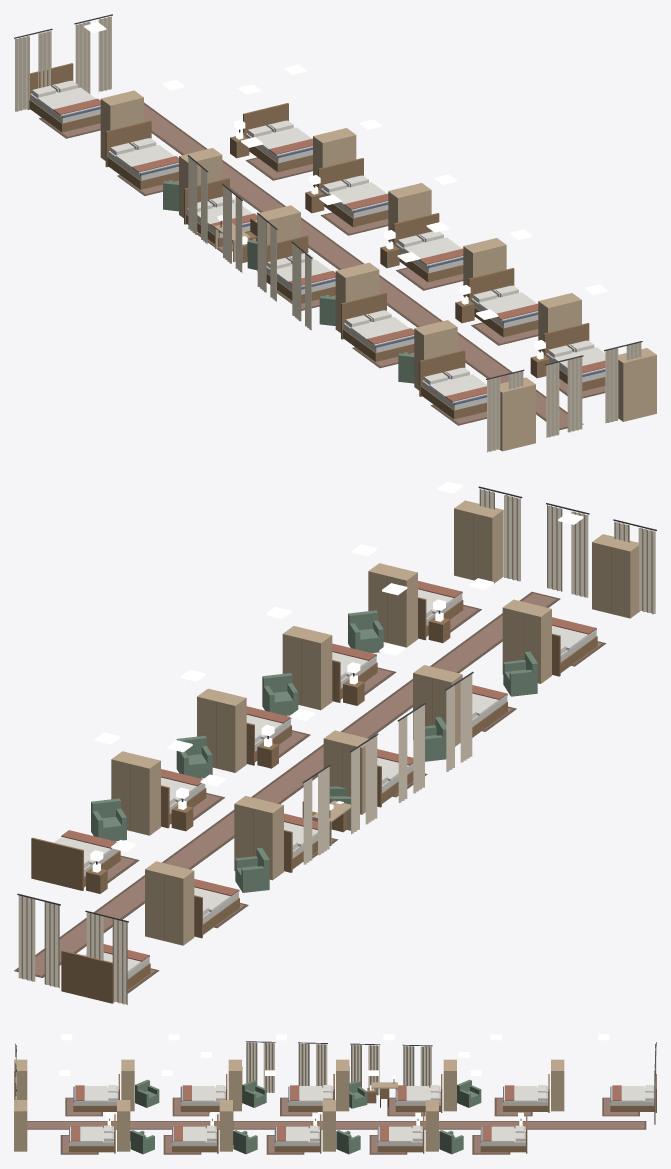
File: fine-s1.glb
The picture shows the model from 3 angles, top to bottom: view 1: azimuth 30°, elevation 25°; view 2: azimuth 150°, elevation 25°; view 3: azimuth 270°, elevation 25°; orthographic projection. The views are drawn at different scales.
Parts seen in each view (by area): view 1: soft-s1, dresser.004, dresser.010, bed-frame.006, bed-frame.009, bed-frame.010, bed-frame.005, bed-frame.000, bed-frame.003, bed-frame.001, bed-frame.002, dresser.008 (+11 smaller); view 2: soft-s1, dresser.005, dresser.004, dresser.010, dresser.002, dresser.001, dresser.000, dresser.003, dresser.006, dresser.009, bed-frame.005, bed-frame.000 (+15 smaller); view 3: soft-s1, dresser.002, dresser.005, dresser.006, dresser.007, dresser.000, dresser.001, dresser.003, dresser.004, dresser.008, bed-frame.000, bed-frame.001 (+20 smaller).
Boxes of the visible parts, x1,y1,x2,y2 form: soft-s1: [14, 14, 642, 452]; dresser.004: [618, 348, 656, 421]; dresser.010: [500, 377, 535, 451]; bed-frame.006: [105, 120, 178, 189]; bed-frame.009: [341, 292, 414, 361]; bed-frame.010: [419, 350, 486, 419]; bed-frame.005: [27, 63, 100, 132]; bed-frame.000: [243, 103, 312, 172]; bed-frame.003: [468, 268, 538, 337]; bed-frame.001: [318, 158, 388, 227]; bed-frame.002: [393, 213, 463, 282]; dresser.008: [335, 262, 379, 332]; soft-s1: [14, 486, 656, 1004]; dresser.005: [145, 861, 194, 945]; dresser.004: [454, 500, 503, 583]; dresser.010: [592, 534, 640, 618]; dresser.002: [282, 626, 332, 710]; dresser.001: [197, 688, 246, 772]; dresser.000: [111, 751, 160, 835]; dresser.003: [368, 563, 417, 647]; dresser.006: [234, 796, 283, 880]; dresser.009: [502, 599, 551, 683]; bed-frame.005: [61, 950, 150, 1003]; bed-frame.000: [31, 837, 120, 890]; soft-s1: [15, 1041, 656, 1154]; dresser.002: [219, 1100, 233, 1151]; dresser.005: [551, 1059, 564, 1111]; dresser.006: [443, 1059, 456, 1111]; dresser.007: [336, 1059, 349, 1111]; dresser.000: [425, 1100, 438, 1151]; dresser.001: [322, 1100, 335, 1151]; dresser.003: [117, 1100, 130, 1151]; dresser.004: [14, 1100, 27, 1151]; dresser.008: [228, 1059, 242, 1111]; bed-frame.000: [480, 1114, 527, 1153]; bed-frame.001: [377, 1114, 424, 1153].
Bounding box in the file's own units: 6.58 × 3.53 × 28.94.
